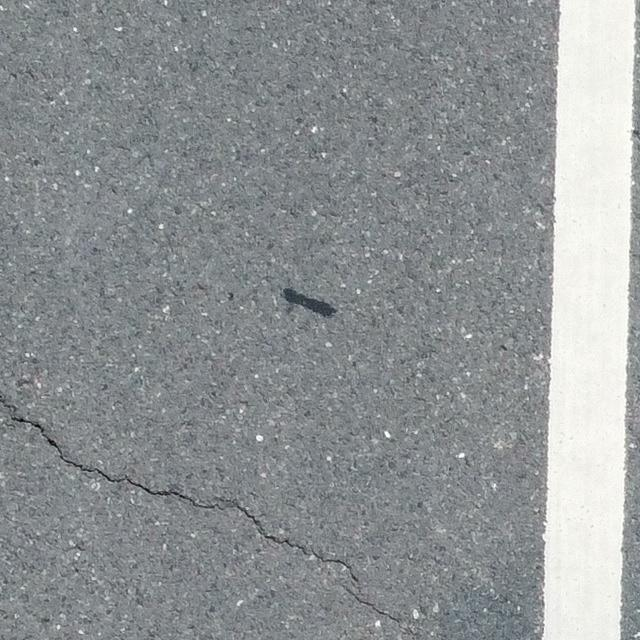TransverseCrack: (1, 397, 402, 628)
